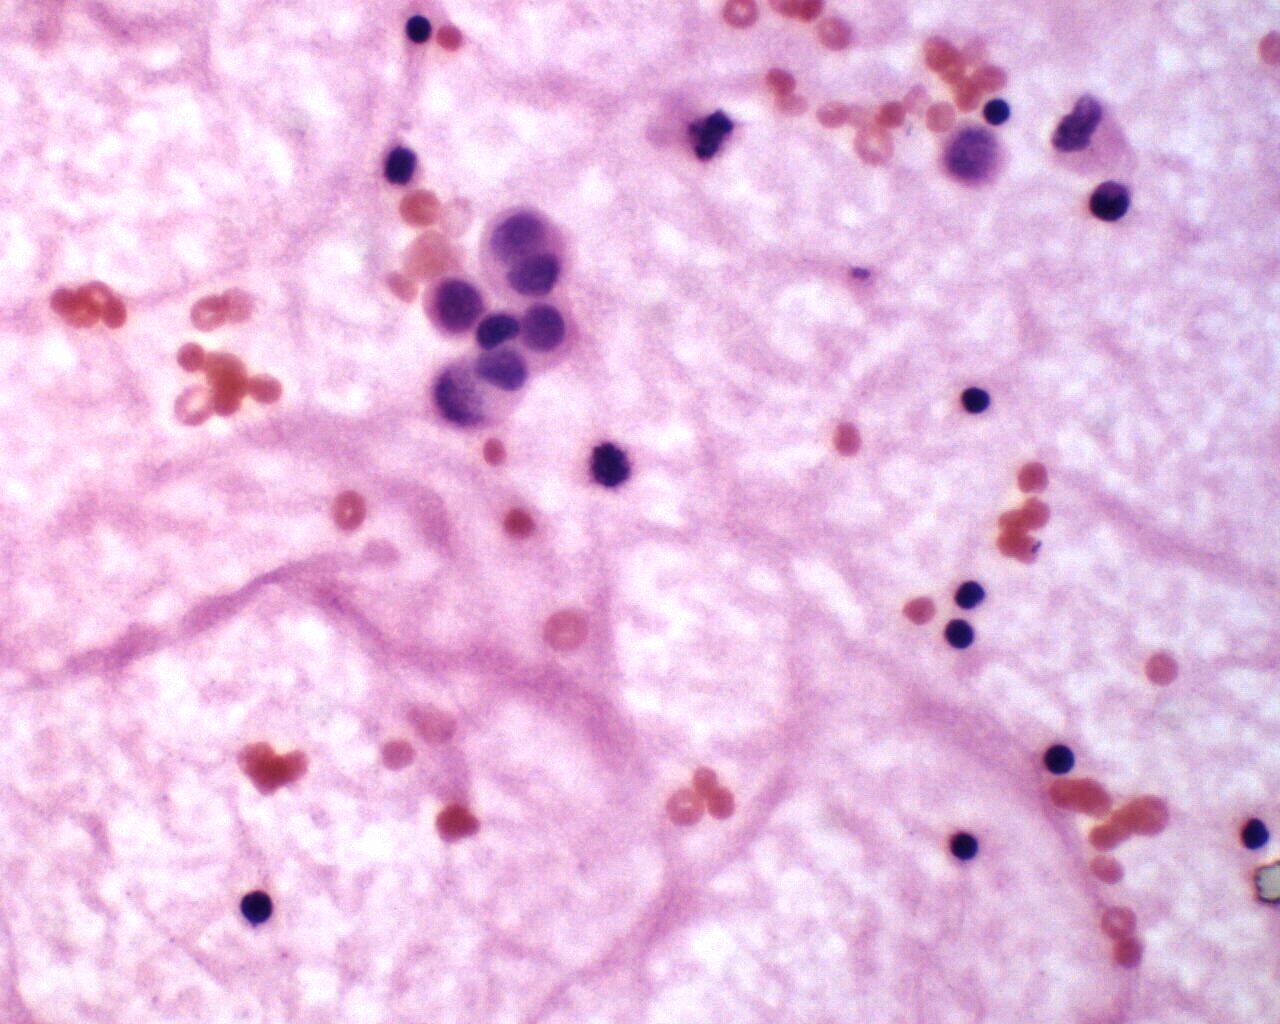ab: (478, 200, 577, 305), (421, 271, 488, 343)
lymph: (1032, 726, 1094, 786), (236, 885, 288, 942), (954, 376, 1002, 426), (940, 824, 990, 872), (941, 615, 985, 660), (398, 9, 439, 51), (979, 90, 1019, 131)
